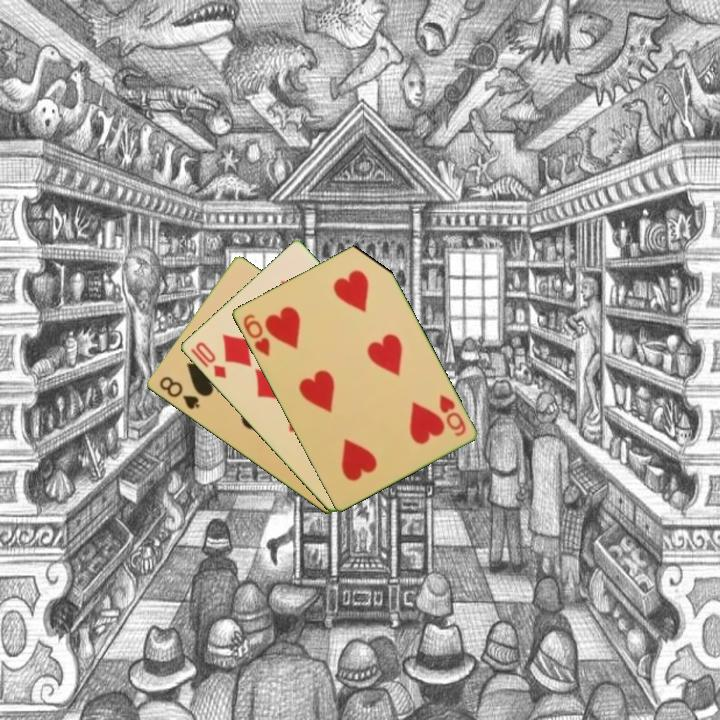10d: (191, 338, 229, 381)
6h: (239, 310, 273, 359), (435, 390, 469, 439)
8s: (155, 373, 203, 412)
